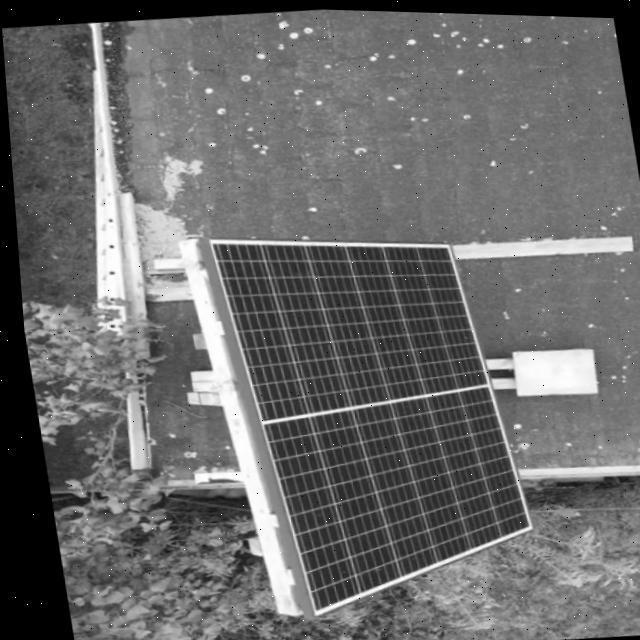Normal Solar Panel: (206, 215, 534, 618)
